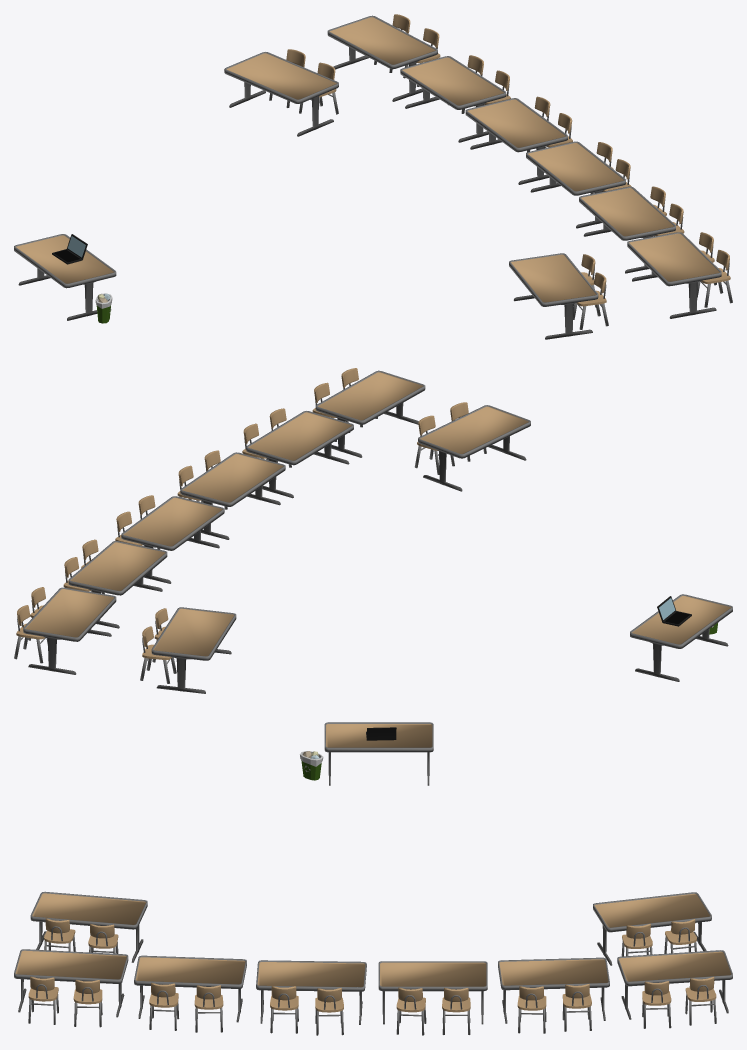
File: d-roomcomp-r6-auditorium-in.glb
3 renders of one model, top to bottom at view 1: azimuth 30°, elevation 25°; view 2: azimuth 150°, elevation 25°; view 3: azimuth 270°, elevation 25°, orthographic. The views are drawn at different scales.
Parts seen in each view (by area): view 1: officeDesk.042, officeDesk.040, officeDesk.043, officeDesk.039, officeDesk.038, officeDesk.035, officeDesk.036, officeDesk.037, officeDesk.041, Chair.074, Chair.078, laptop.004; view 2: officeDesk.043, officeDesk.039, officeDesk.040, officeDesk.042, officeDesk.037, officeDesk.036, officeDesk.035, officeDesk.038, officeDesk.041, Chair.075, Chair.071, laptop.004 (+1 smaller); view 3: officeDesk.043, officeDesk.042, officeDesk.040, officeDesk.039, officeDesk.037, officeDesk.035, officeDesk.038, officeDesk.036, officeDesk.041, Chair.071, Chair.074, Chair.068 (+14 smaller).
Boxes of the visible parts, x1=… form: officeDesk.042: x1=224, y1=52, x2=338, y2=136; officeDesk.040: x1=627, y1=232, x2=721, y2=318; officeDesk.043: x1=509, y1=253, x2=598, y2=339; officeDesk.039: x1=327, y1=15, x2=437, y2=101; officeDesk.038: x1=400, y1=56, x2=506, y2=142; officeDesk.035: x1=465, y1=98, x2=567, y2=184; officeDesk.036: x1=526, y1=141, x2=625, y2=228; officeDesk.037: x1=579, y1=186, x2=675, y2=273; officeDesk.041: x1=14, y1=234, x2=116, y2=320; Chair.074: x1=697, y1=250, x2=732, y2=307; Chair.078: x1=573, y1=272, x2=608, y2=329; laptop.004: x1=52, y1=234, x2=87, y2=264; officeDesk.043: x1=418, y1=405, x2=530, y2=491; officeDesk.039: x1=23, y1=587, x2=116, y2=674; officeDesk.040: x1=315, y1=370, x2=425, y2=457; officeDesk.042: x1=151, y1=607, x2=236, y2=693; officeDesk.037: x1=246, y1=411, x2=353, y2=498; officeDesk.036: x1=180, y1=452, x2=285, y2=539; officeDesk.035: x1=121, y1=496, x2=224, y2=583; officeDesk.038: x1=68, y1=541, x2=167, y2=628; officeDesk.041: x1=630, y1=594, x2=732, y2=681; Chair.075: x1=140, y1=626, x2=176, y2=683; Chair.071: x1=14, y1=605, x2=47, y2=663; laptop.004: x1=657, y1=596, x2=691, y2=626; officeDesk.043: x1=30, y1=891, x2=147, y2=962; officeDesk.042: x1=593, y1=892, x2=711, y2=965; officeDesk.040: x1=14, y1=949, x2=128, y2=1017; officeDesk.039: x1=617, y1=950, x2=732, y2=1019; officeDesk.037: x1=134, y1=955, x2=246, y2=1022; officeDesk.035: x1=378, y1=961, x2=487, y2=1024; officeDesk.038: x1=498, y1=957, x2=609, y2=1023; officeDesk.036: x1=256, y1=960, x2=366, y2=1024; officeDesk.041: x1=324, y1=722, x2=433, y2=785; Chair.071: x1=685, y1=976, x2=716, y2=1025; Chair.074: x1=28, y1=976, x2=58, y2=1024; Chair.068: x1=149, y1=982, x2=179, y2=1030.
Bounding box in the file's own units: 13.65 × 1.31 × 15.19.
Materials: 2 (2 with a texture image).
